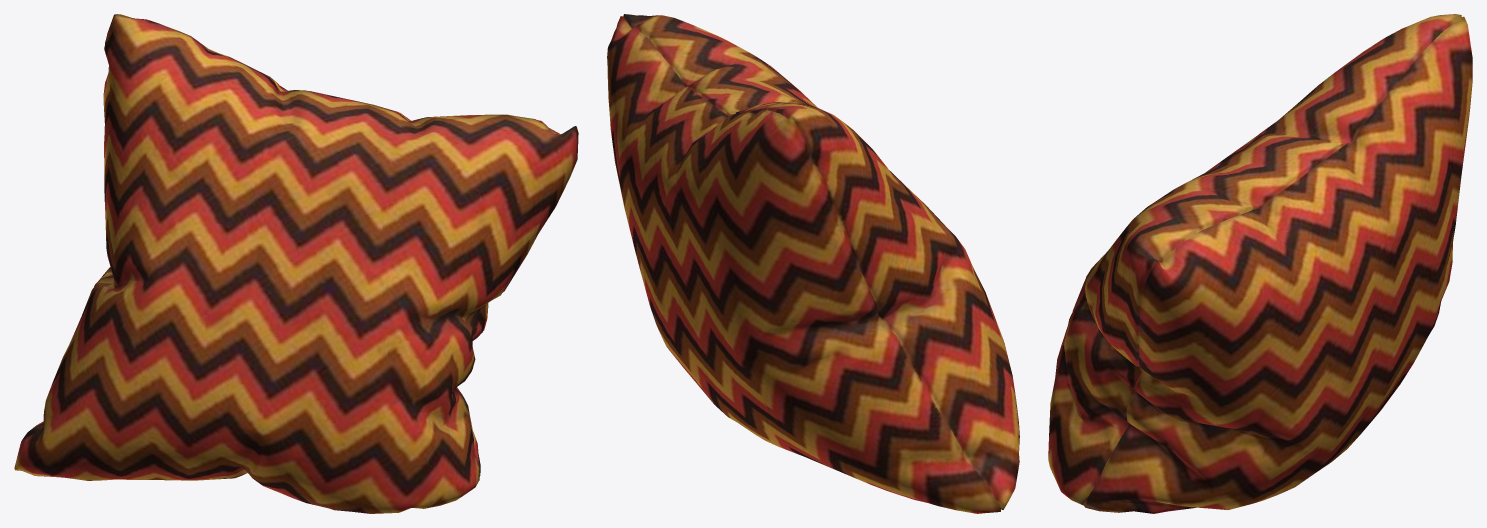
Rendered from throw_pillows_01__a.glb.
The picture shows the model from 3 angles, left to right: view 1: azimuth 30°, elevation 25°; view 2: azimuth 150°, elevation 25°; view 3: azimuth 270°, elevation 25°; orthographic projection. The views are drawn at different scales.
Parts seen in each view (by area): view 1: throw_pillows_01; view 2: throw_pillows_01; view 3: throw_pillows_01.
Boxes of the visible parts, left/top/right/bottom form: throw_pillows_01: left=14, top=14, right=578, bottom=513; throw_pillows_01: left=607, top=14, right=1019, bottom=513; throw_pillows_01: left=1048, top=14, right=1472, bottom=513.
Bounding box in the file's own units: 0.572 × 0.4502 × 0.4267.
Materials: 1 (1 with a texture image).
